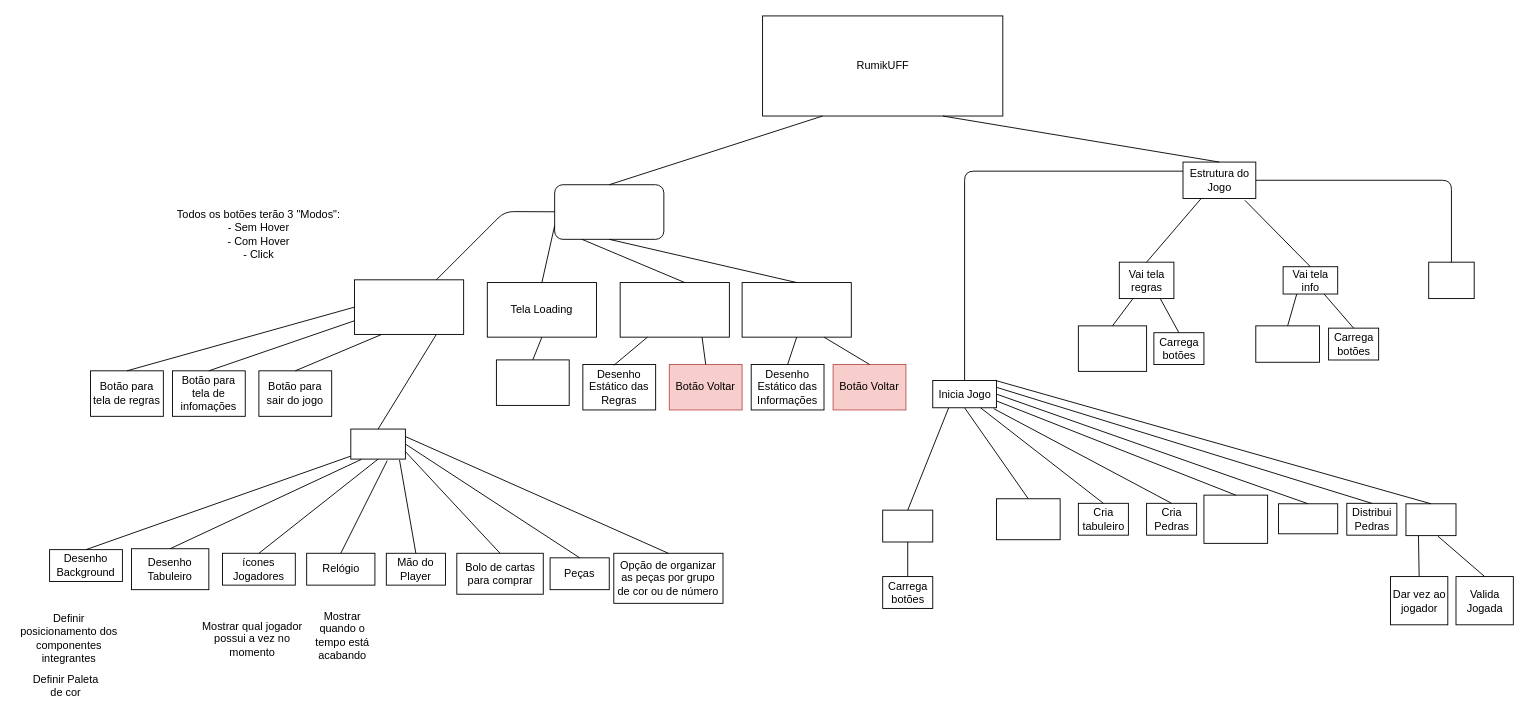
Some shapes in this 1529 by 725 pixel diagram are drawn without their labels. The shapes that lost their labels are listed below. From the top down, each one's centre as x and y in pixels, then its label:
At (609,211): "Layout".
At (1451,280): "Sair do jogo".
At (409,306): "Tela Menu Prncipal".
At (674,309): "Tela Regras".
At (796,309): "Tela Informações".
At (1112,348): "Carrega imagem regras".
At (1287,343): "Carrega imagem info".
At (532,382): "Ícone e animação de loading".
At (377,443): "Botão Jogar".
At (907,525): "Pausa jogo".
At (1028,519): "Cria Background".
At (1235,518): "Cria Cartas para comprar".
At (1308,518): "Cria Jogadores".
At (1430,519): "Cria Turnos".
